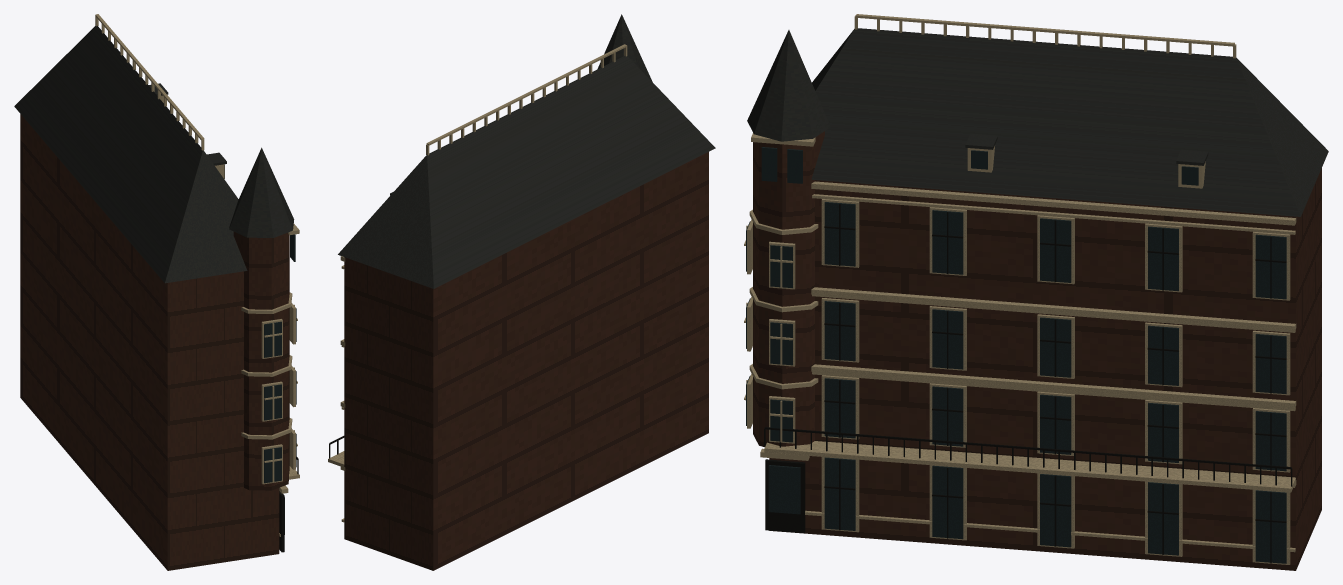
The picture shows the model from 3 angles, left to right: view 1: azimuth 30°, elevation 25°; view 2: azimuth 150°, elevation 25°; view 3: azimuth 270°, elevation 25°; orthographic projection. The views are drawn at different scales.
Parts seen in each view (by area): view 1: restaurant-wolff-0, restaurant-wolff-3, restaurant-wolff-1, restaurant-wolff-2, restaurant-wolff-4; view 2: restaurant-wolff-0, restaurant-wolff-3, restaurant-wolff-1; view 3: restaurant-wolff-0, restaurant-wolff-3, restaurant-wolff-1, restaurant-wolff-2, restaurant-wolff-4.
Part boxes in pixels (bbox=[...]): restaurant-wolff-0: bbox=[20, 114, 289, 570]; restaurant-wolff-3: bbox=[14, 25, 294, 283]; restaurant-wolff-1: bbox=[95, 14, 299, 536]; restaurant-wolff-2: bbox=[224, 165, 296, 534]; restaurant-wolff-4: bbox=[279, 457, 298, 552]; restaurant-wolff-0: bbox=[344, 152, 708, 570]; restaurant-wolff-3: bbox=[338, 14, 715, 288]; restaurant-wolff-1: bbox=[328, 44, 627, 522]; restaurant-wolff-0: bbox=[753, 131, 1321, 570]; restaurant-wolff-3: bbox=[747, 28, 1328, 216]; restaurant-wolff-1: bbox=[744, 14, 1296, 564]; restaurant-wolff-2: bbox=[746, 147, 1286, 563]; restaurant-wolff-4: bbox=[764, 203, 1292, 563].
Bounding box in the file's own units: 11.18 × 22.5 × 24.05.
5 materials, 5 textured.
